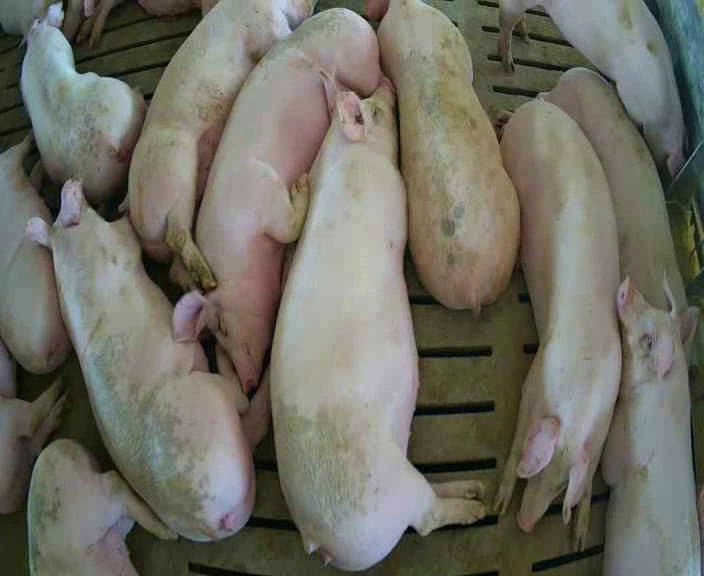pig: (272, 71, 485, 570), (27, 180, 269, 541), (172, 9, 380, 391), (492, 99, 619, 551), (119, 1, 316, 289), (537, 69, 700, 368), (365, 1, 519, 314), (500, 1, 685, 177), (602, 271, 699, 574), (21, 5, 145, 202), (27, 439, 176, 574)
